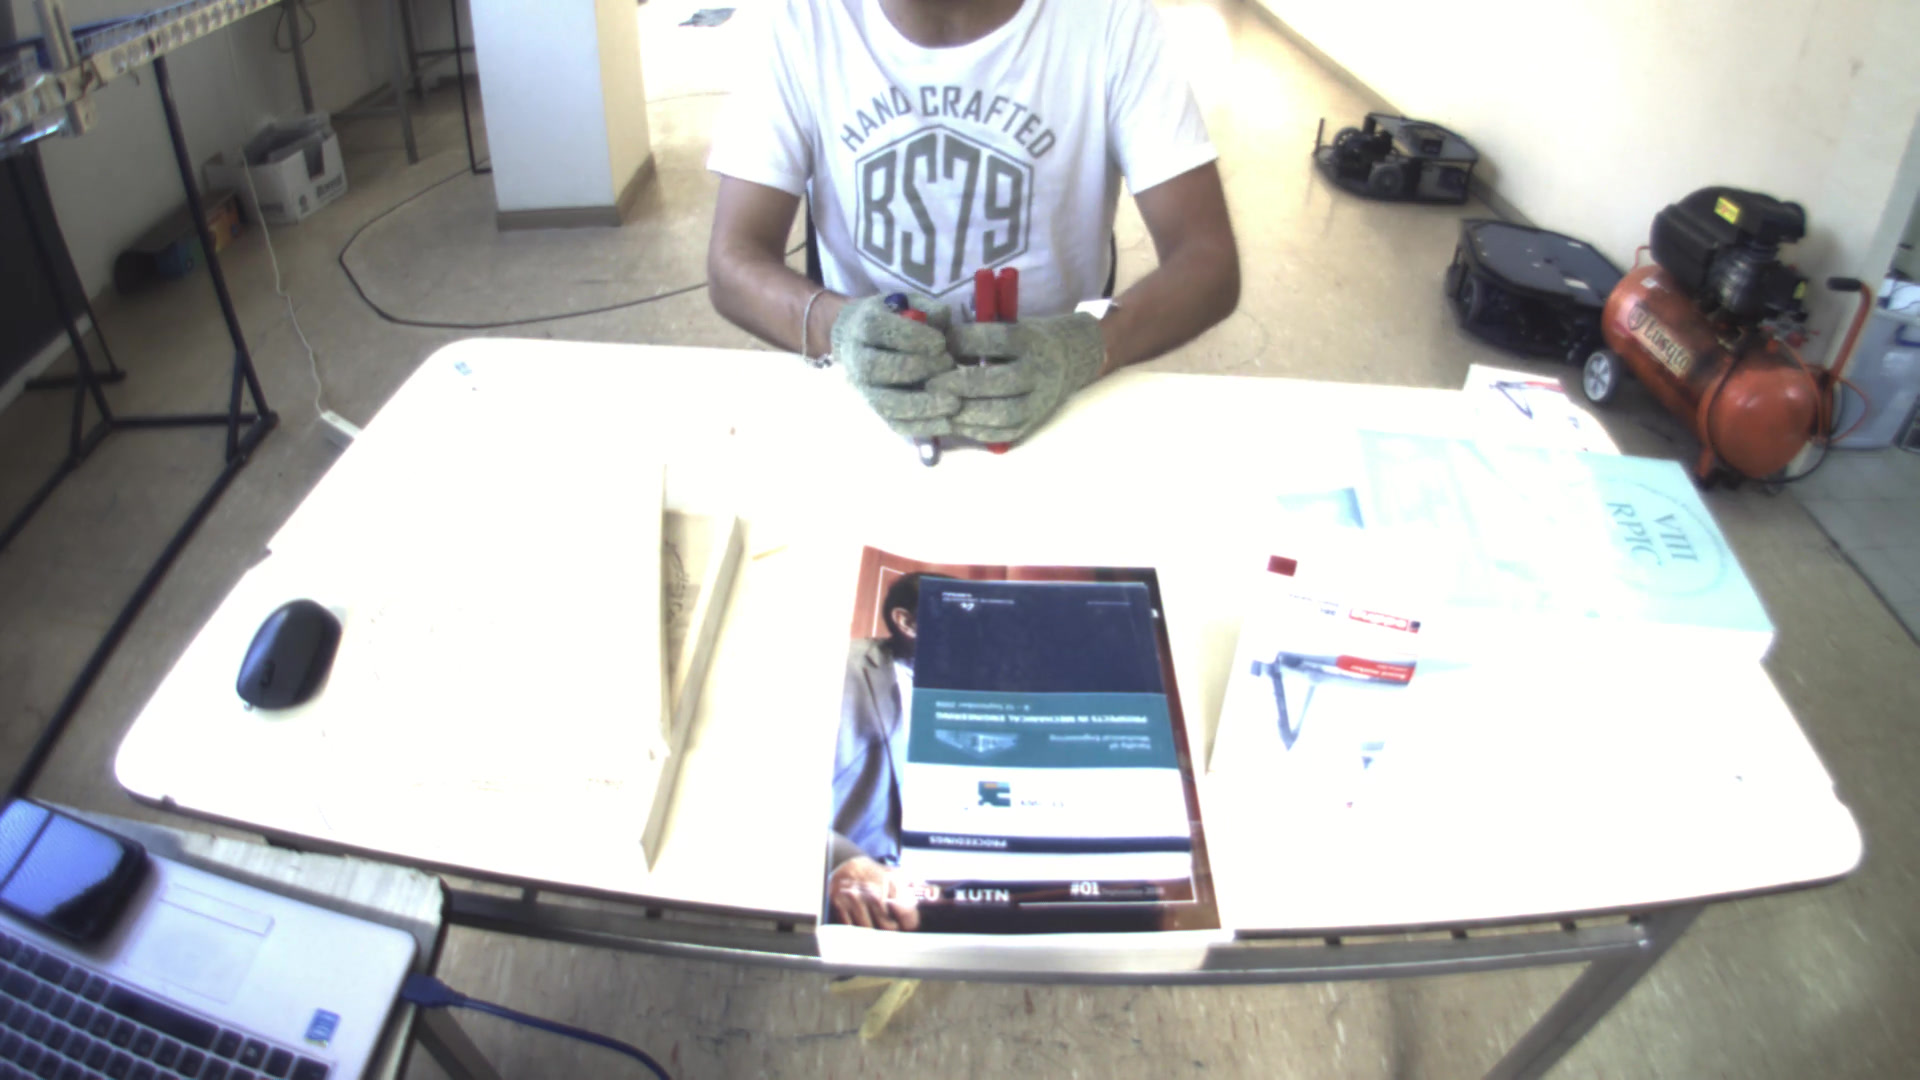hand: (819, 287, 953, 440), (955, 322, 1102, 443)
